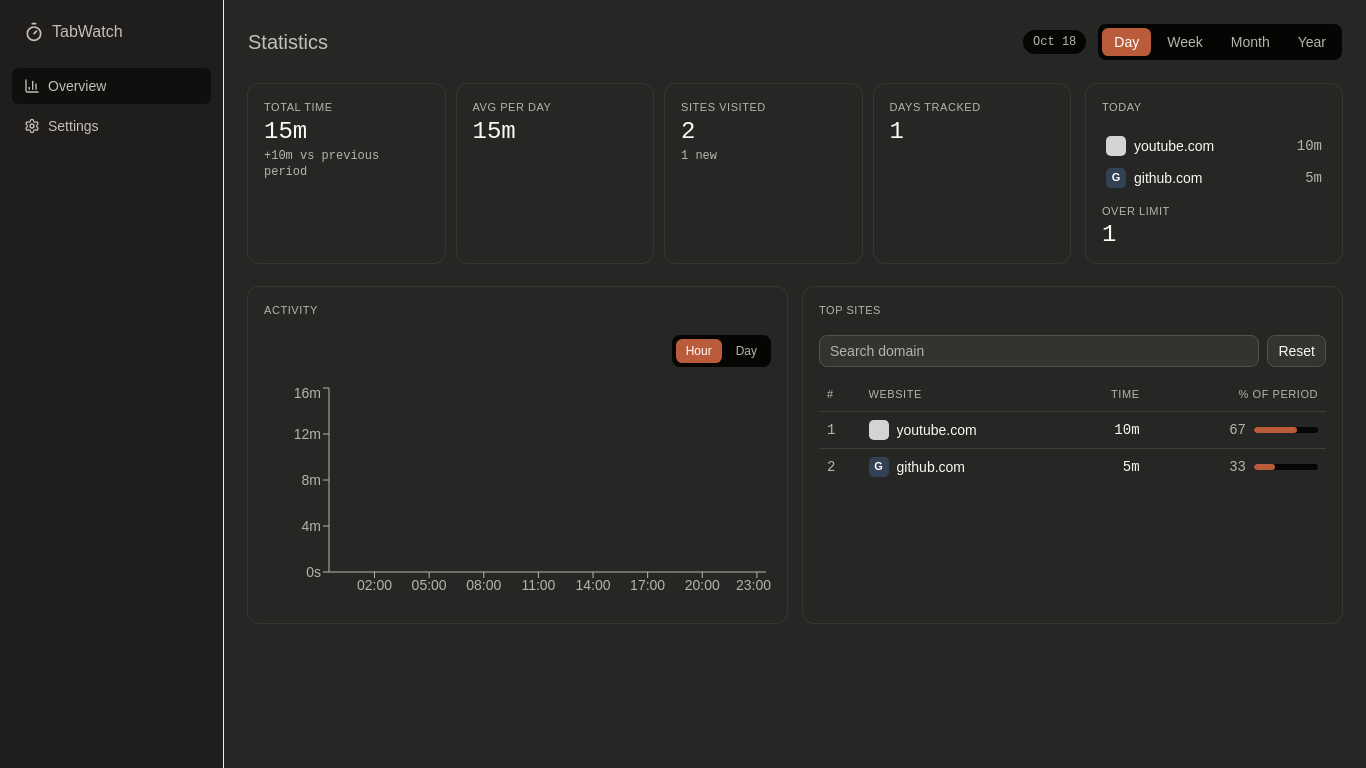
it: stats screen › stats_screen_keeps_the_today_panel_on_today_data
Expected: the text "+10m vs previous period" is shown, x1=264 y1=149 x2=379 y2=179
Expected: the text "youtube.com" below "Today" is shown, x1=1134 y1=138 x2=1214 y2=154
Click the button "Week" at (1185, 42), box x1=1155 y1=28 x2=1215 y2=56
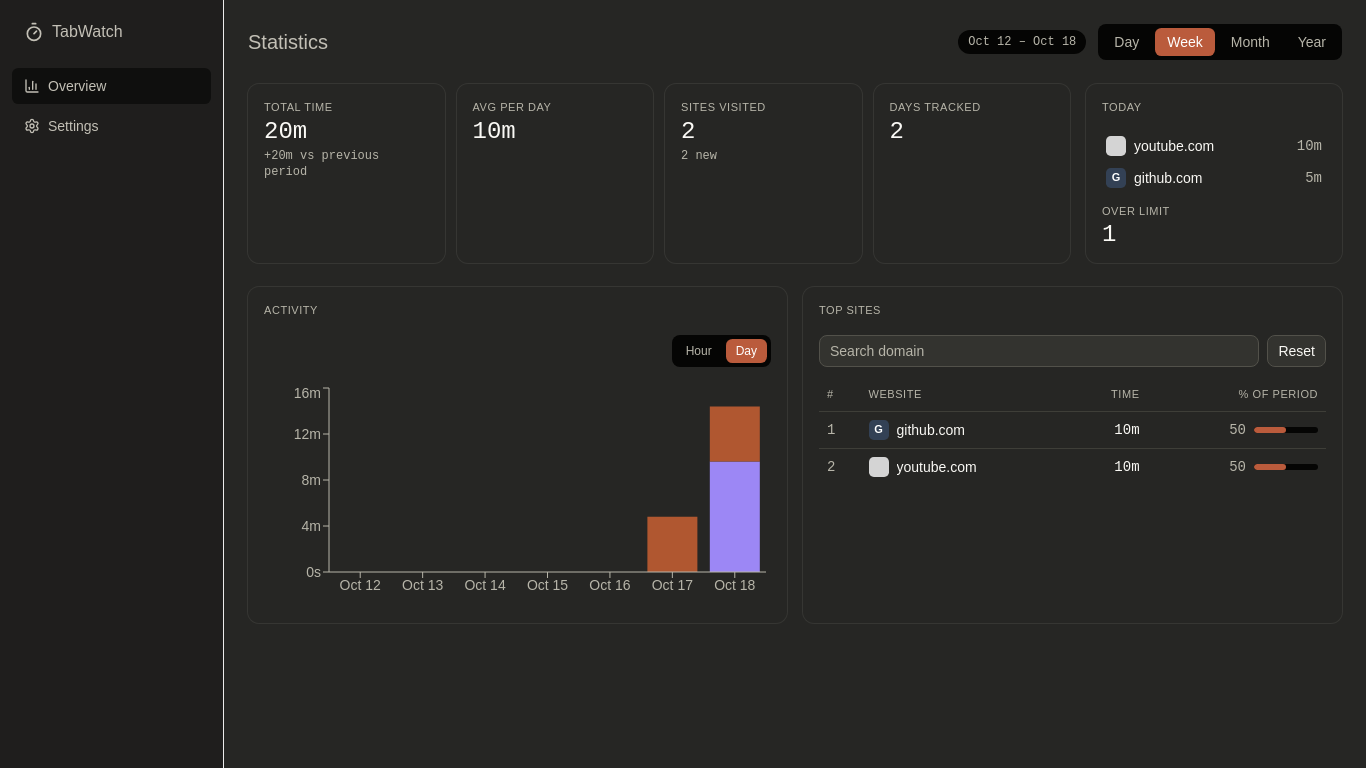
Expected: the text "youtube.com" below "Today" is shown, x1=1134 y1=138 x2=1214 y2=154
Result: the text "20m" is shown at x1=264 y1=118 x2=307 y2=145
